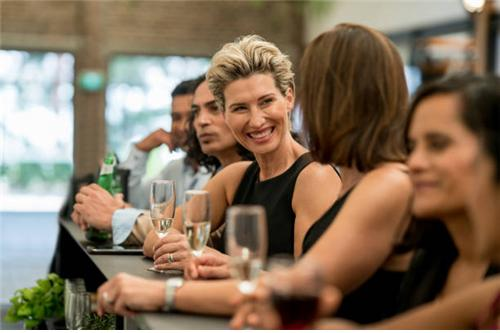alcohol: (227, 204, 267, 297), (83, 153, 118, 247), (184, 190, 211, 265), (150, 180, 176, 238)
